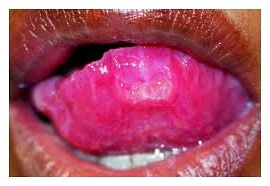Ulcer: (118, 55, 175, 103)
